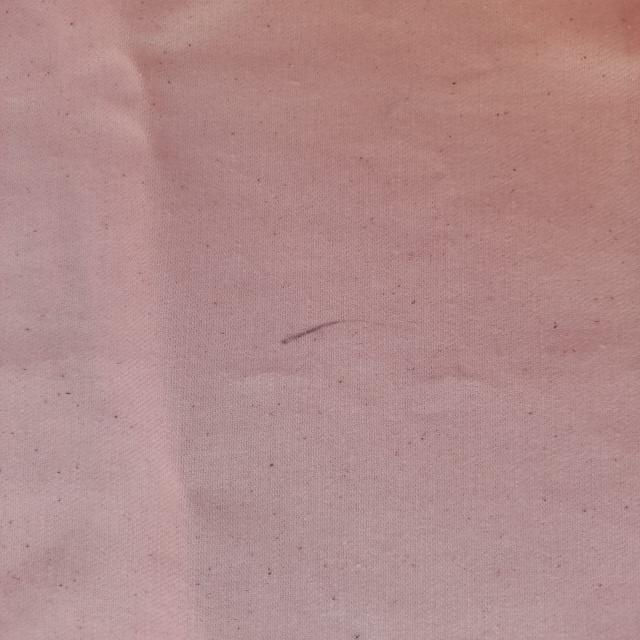taaaches: (267, 306, 351, 356)
